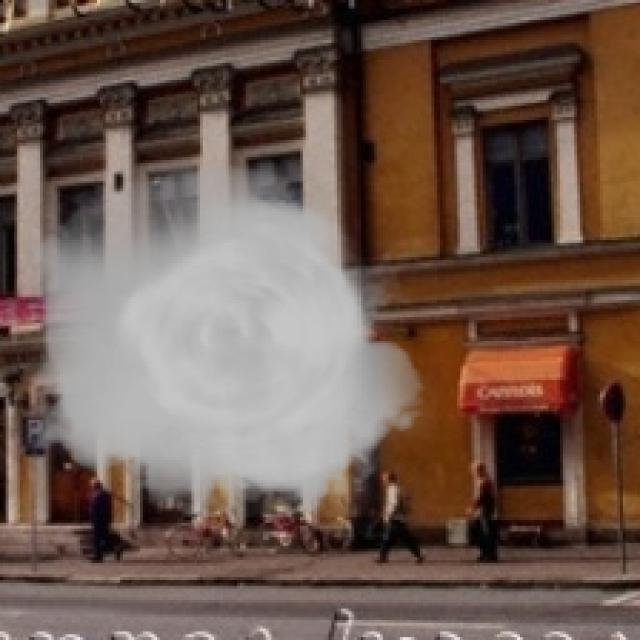smoke: (12, 163, 437, 517)
